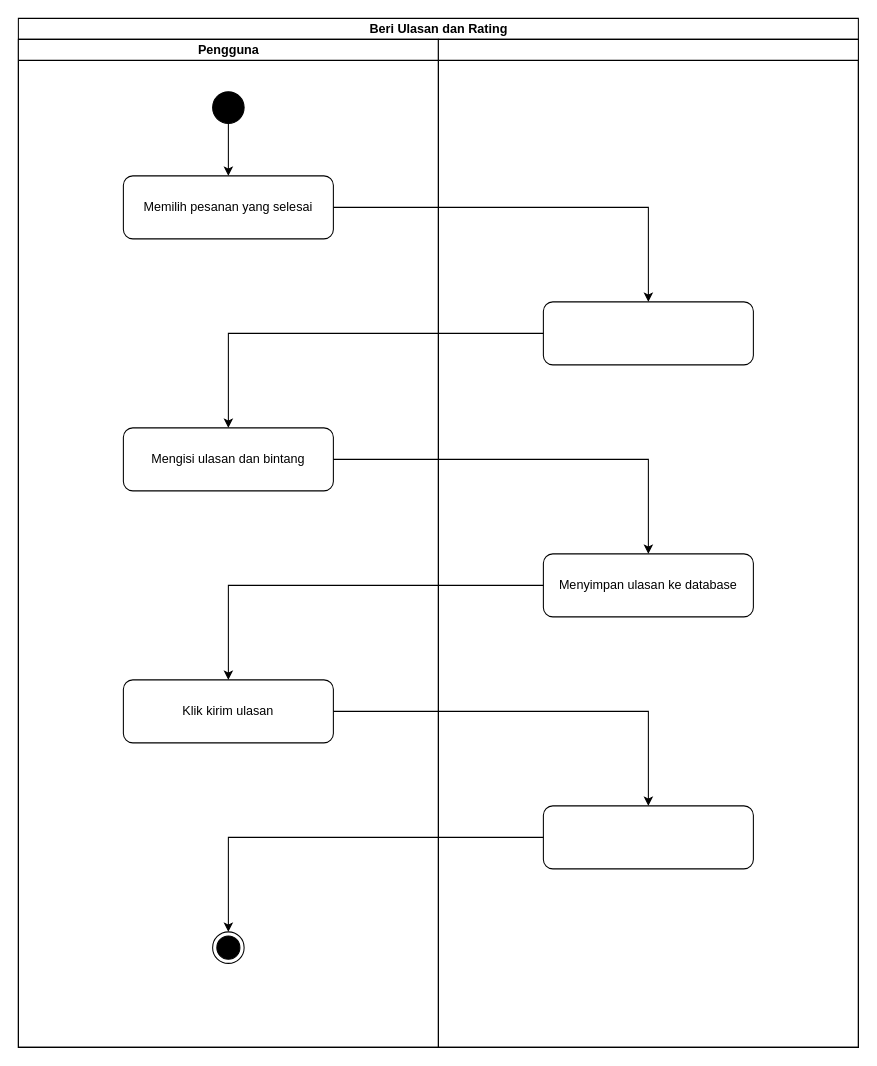
Image size: 877x1066. Some labels were removed from this diagram. Each missing label, with the box of its shape:
Memperbarui rating rata-rata MUA: (542, 805, 753, 869)
Menampilkan form ulasan: (542, 301, 753, 365)
Sistem: (437, 38, 858, 1047)
